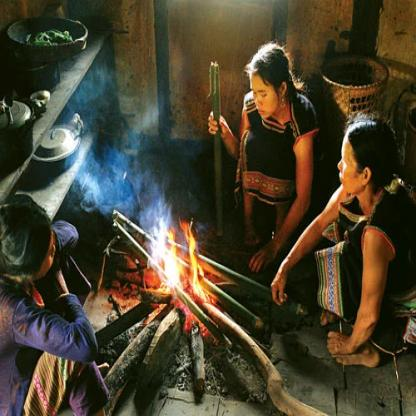fire: (152, 216, 226, 328)
smoke: (60, 58, 204, 257)
